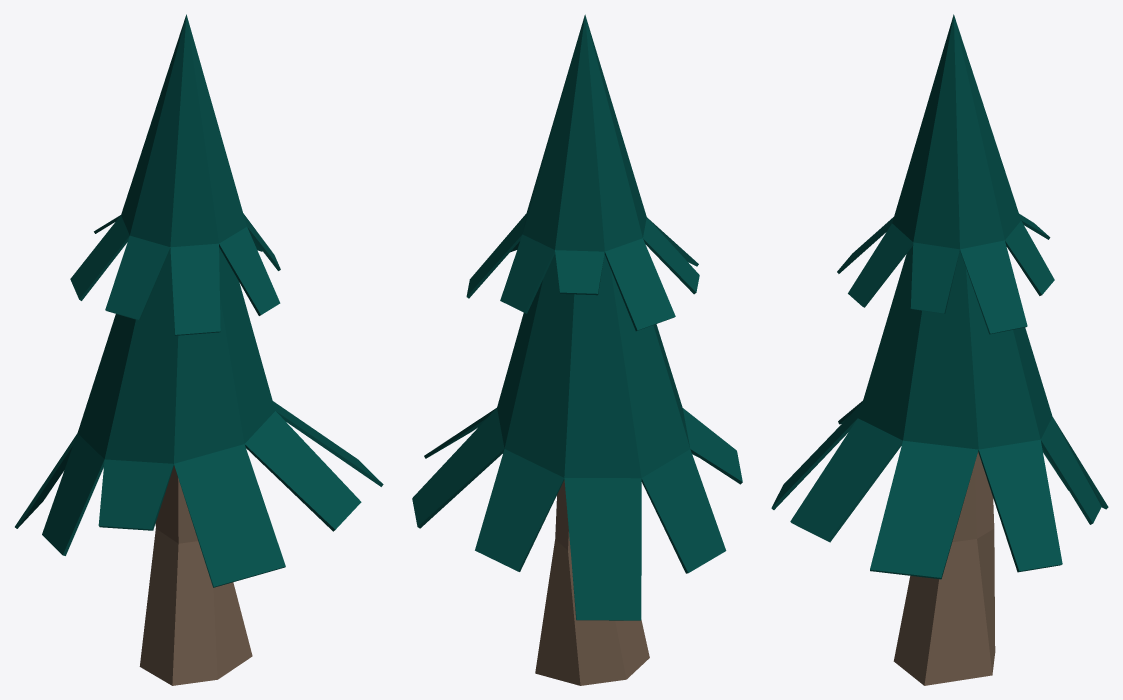
Rendered from Spruce_3.fbx.
3 renders of one model, left to right at view 1: azimuth 30°, elevation 25°; view 2: azimuth 150°, elevation 25°; view 3: azimuth 270°, elevation 25°, orthographic.
Visible parts, largest first — view 1: Spruce_3; view 2: Spruce_3; view 3: Spruce_3.
Part boxes in pixels (x1,y1,x2,y2): Spruce_3: (15,14,383,685); Spruce_3: (412,14,742,685); Spruce_3: (771,14,1108,685).
Bounding box in the file's own units: 215 × 211 × 446.
